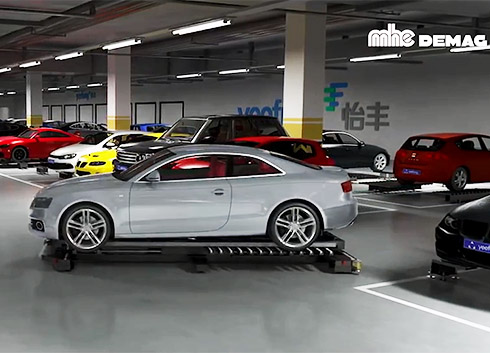car: (29, 143, 358, 261)
